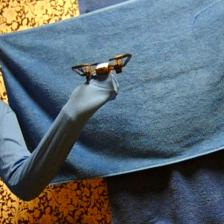drone: (72, 52, 133, 86)
